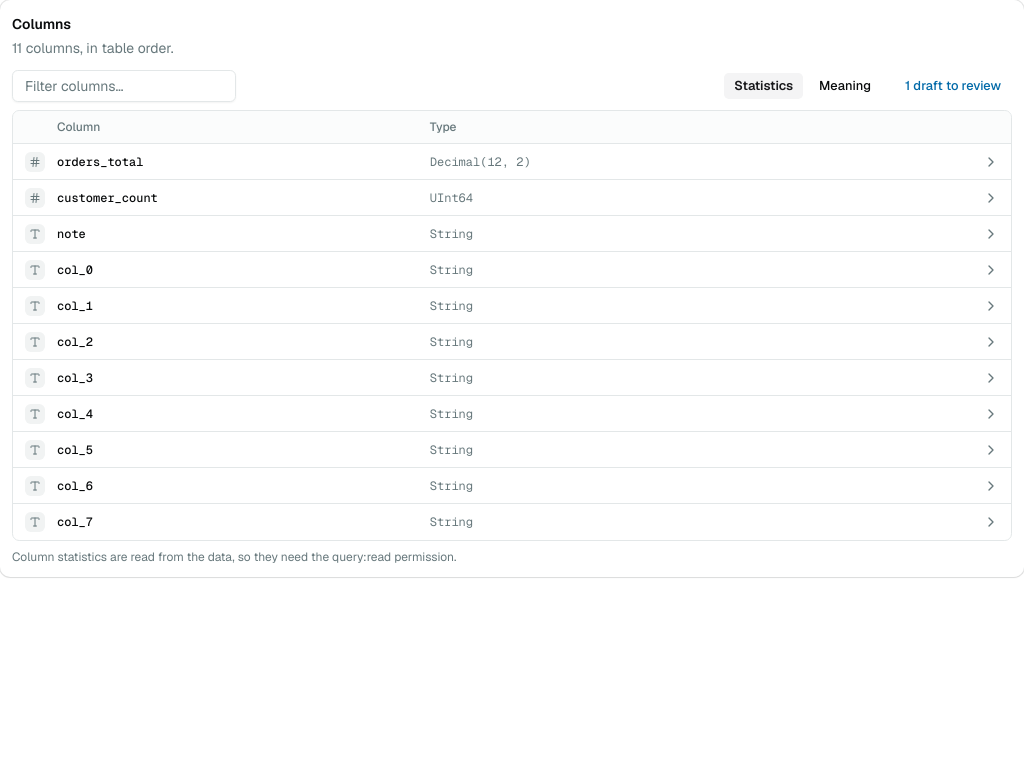
it: Drafts only › says no draft matches the filter when the drafts left do not match it
The image size is (1024, 768).
Click the button "Meaning" at (845, 86), box [808,72,882,100]
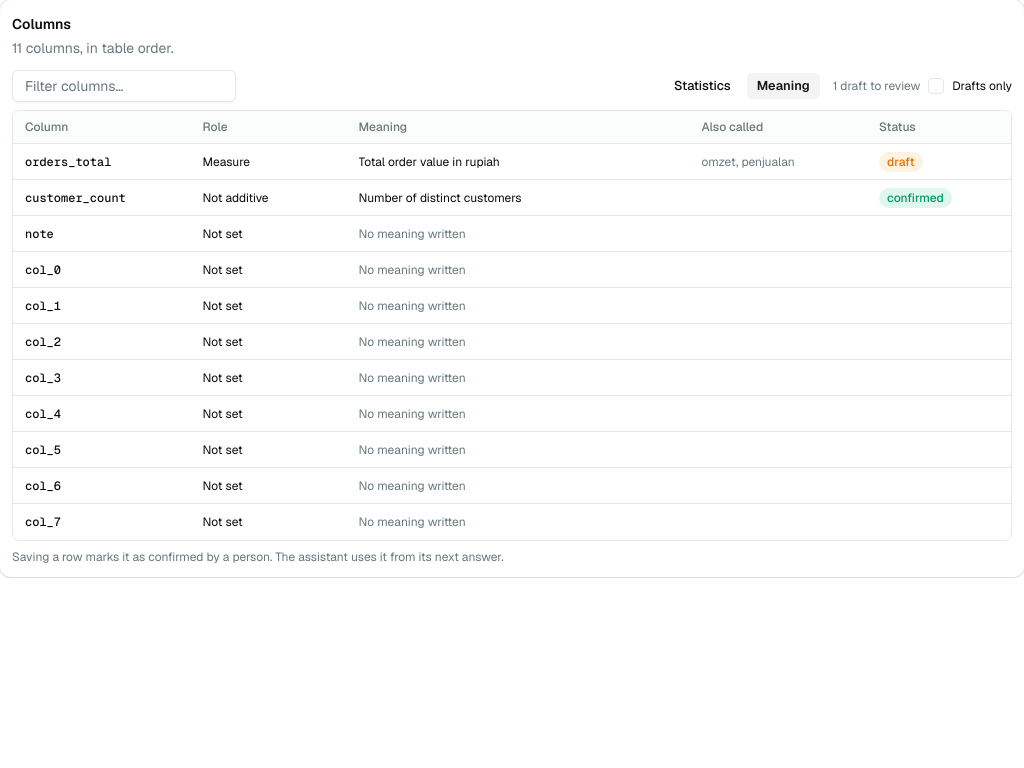
Type "customer" into the search field labelled "Filter columns" at (124, 86), box [12,70,236,102]
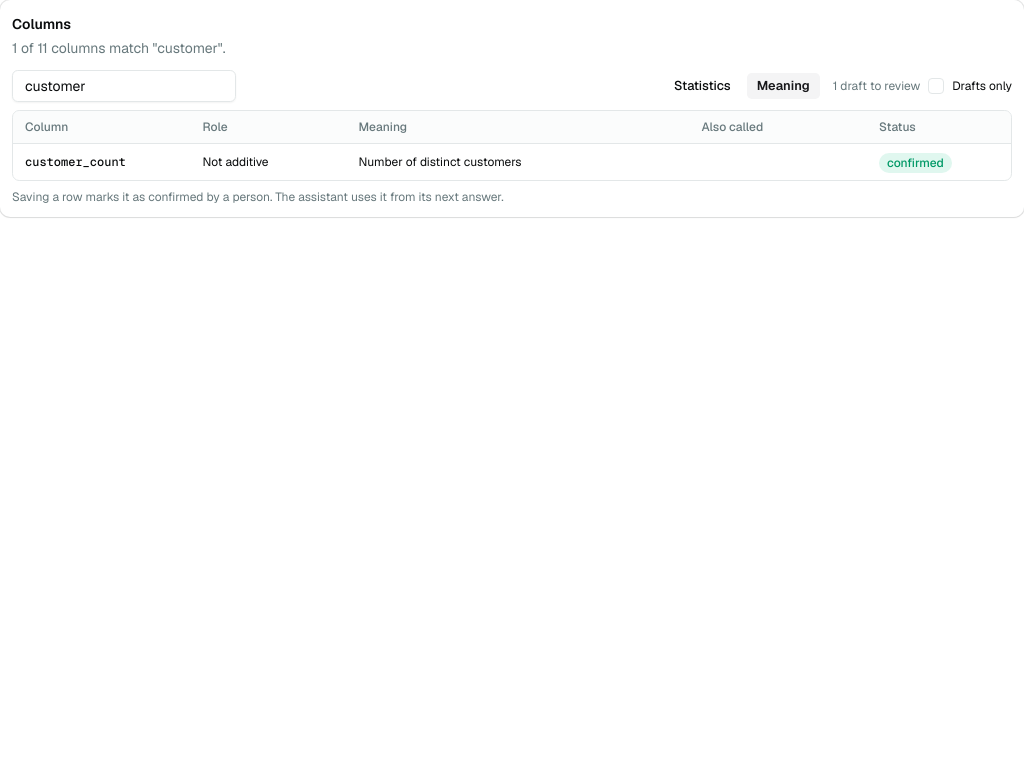
Click the checkbox named "Drafts only" at (936, 86), box [928,78,944,94]
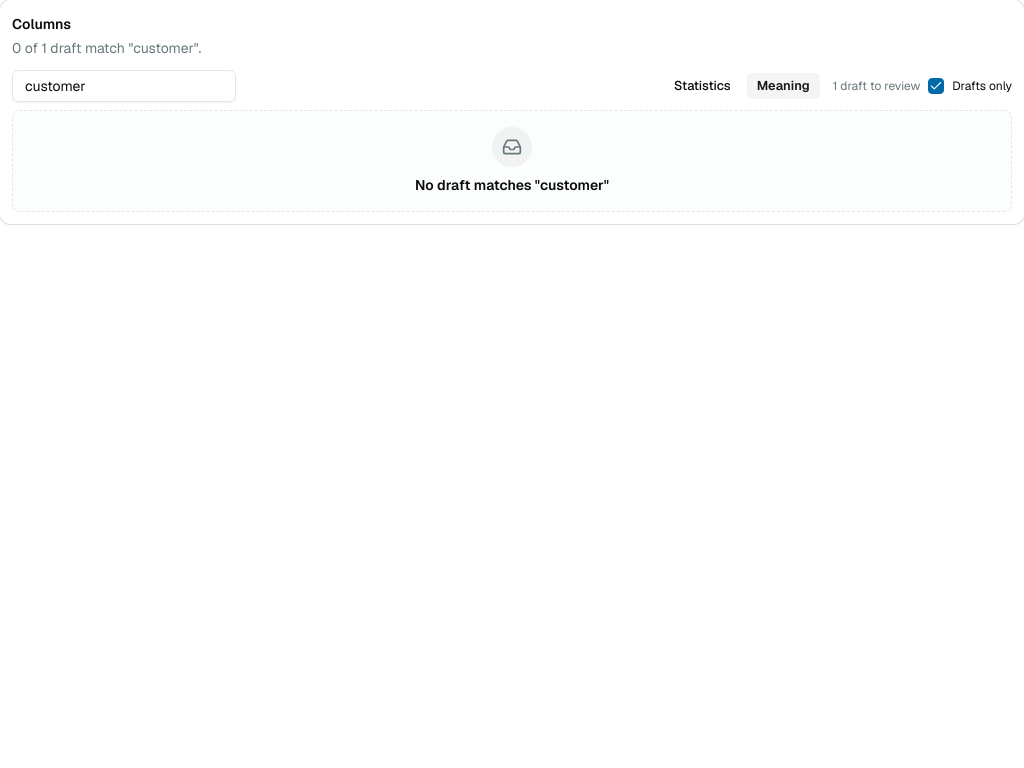
expect the text "No draft matches \"customer\"" is shown: met, box [415,175,609,195]
